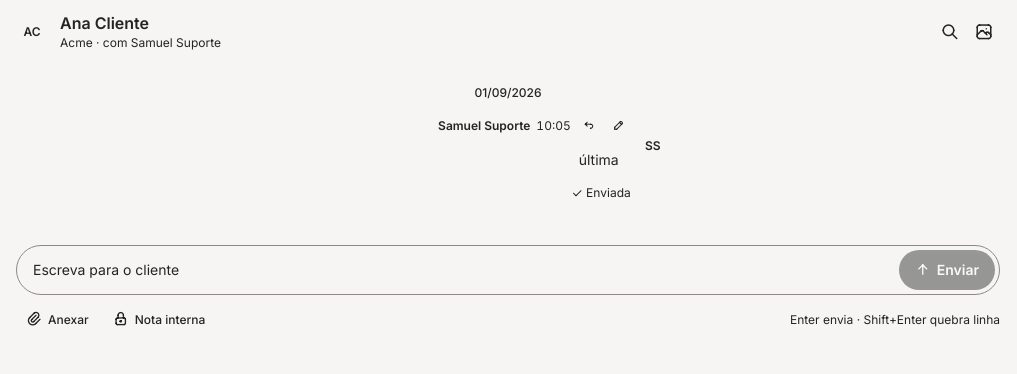
Scenario: ConversaChat — editar mensagem › clicar em editar troca a bolha por um campo de texto com o corpo atual
Click the button named "Editar esta mensagem". click: click(619, 125)
box: 607,113 -> 631,137
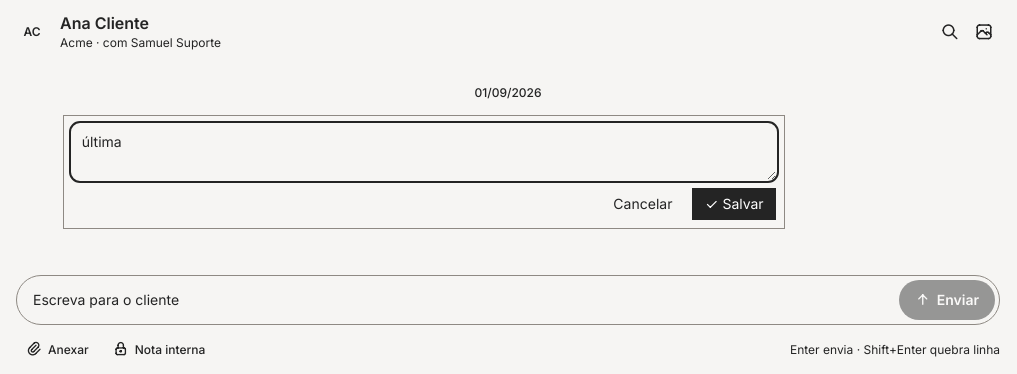
Check: the text box named "Editar mensagem" holds "última", box 72,124 -> 776,180
